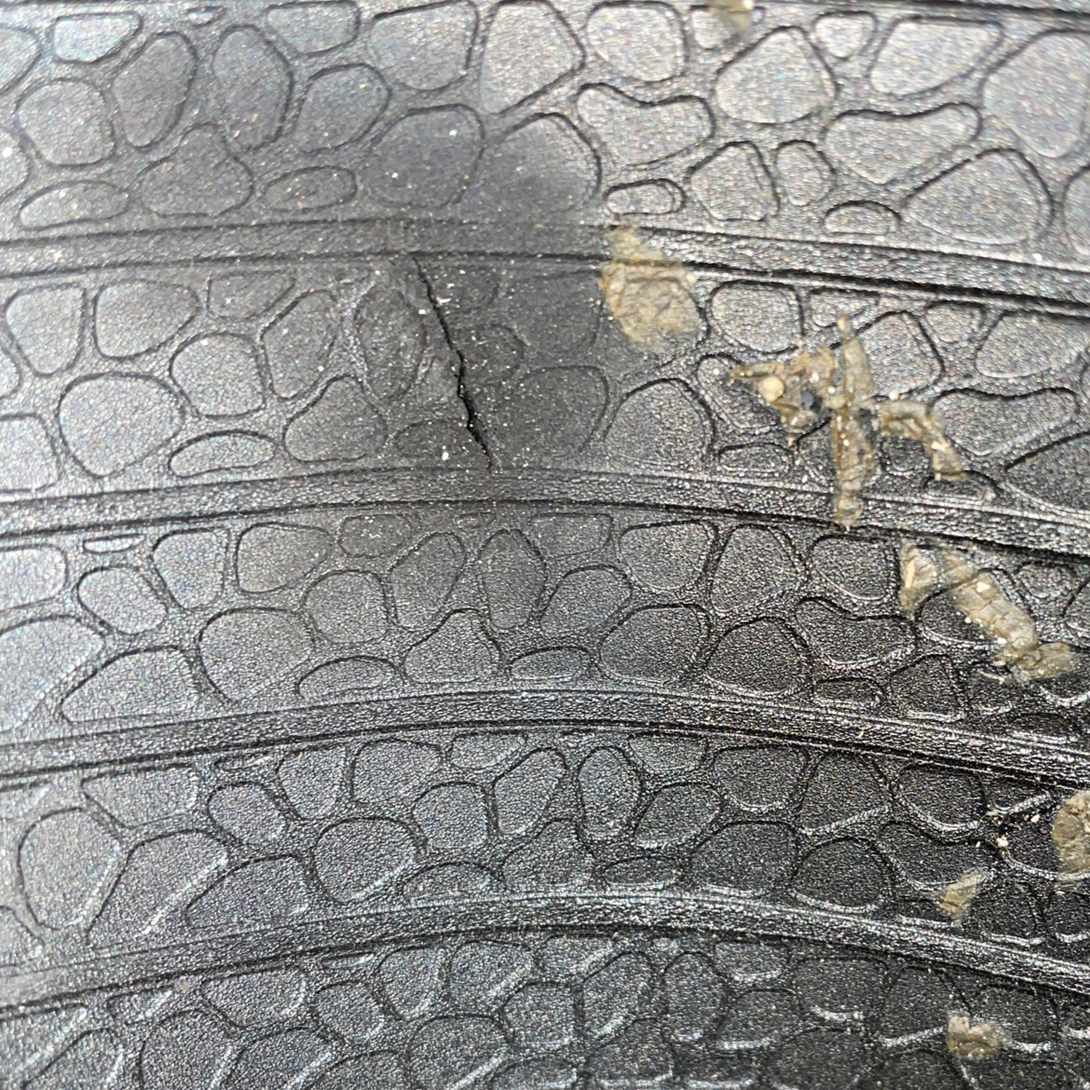cut: (391, 244, 501, 479)
